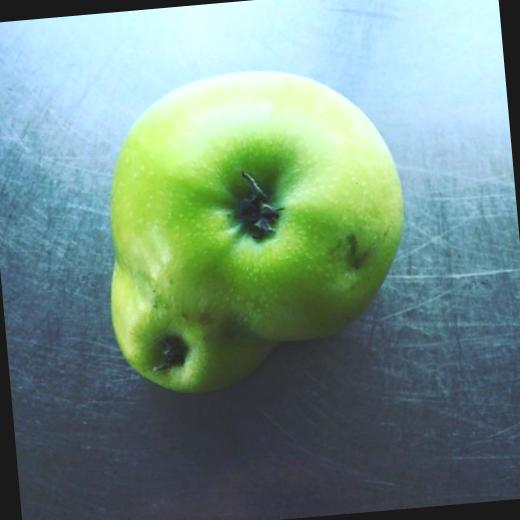Apple: (97, 59, 414, 354), (107, 258, 282, 398)
